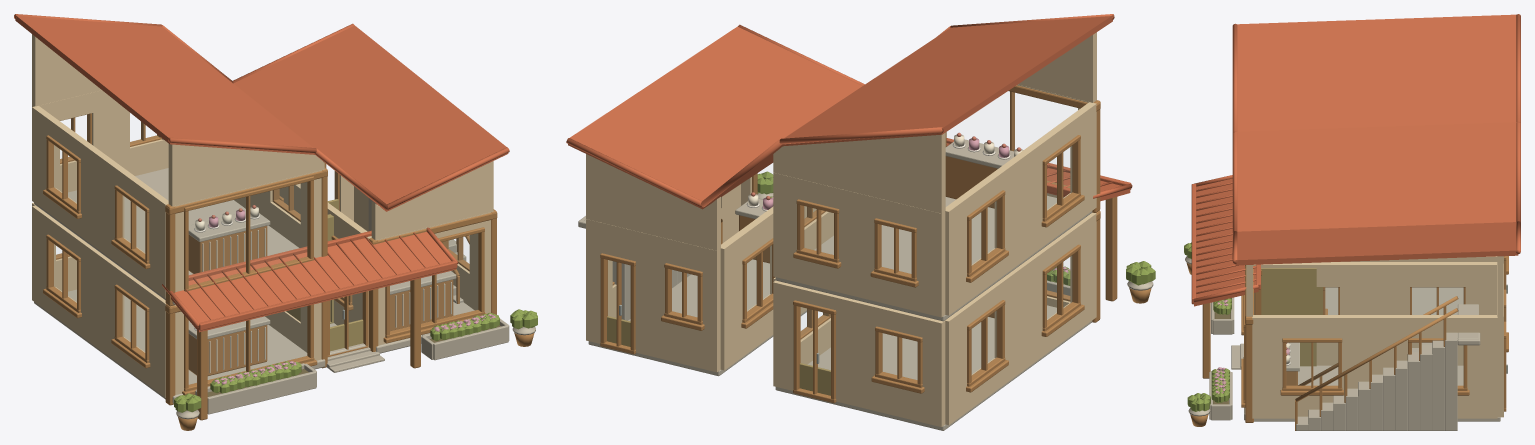
The picture shows the model from 3 angles, left to right: view 1: azimuth 30°, elevation 25°; view 2: azimuth 150°, elevation 25°; view 3: azimuth 270°, elevation 25°; orthographic projection. The views are drawn at different scales.
Visible parts, largest first — view 1: SM_11_02_曲面屋顶, SM_11_01_建筑墙体, SM_11_04_门窗楼梯, SM_11_06_景观设施, SM_11_05_景观植物, SM_11_03_木构回廊; view 2: SM_11_01_建筑墙体, SM_11_02_曲面屋顶, SM_11_04_门窗楼梯, SM_11_06_景观设施, SM_11_03_木构回廊, SM_11_05_景观植物; view 3: SM_11_02_曲面屋顶, SM_11_01_建筑墙体, SM_11_04_门窗楼梯, SM_11_05_景观植物, SM_11_03_木构回廊, SM_11_06_景观设施.
Part boxes in pixels (x1,y1,x2,y2): SM_11_02_曲面屋顶: (14, 14, 509, 332); SM_11_01_建筑墙体: (32, 34, 493, 403); SM_11_04_门窗楼梯: (43, 113, 486, 395); SM_11_06_景观设施: (188, 205, 456, 375); SM_11_05_景观植物: (174, 309, 537, 430); SM_11_03_木构回廊: (165, 167, 497, 420); SM_11_01_建筑墙体: (586, 32, 1096, 430); SM_11_02_曲面屋顶: (566, 14, 1132, 209); SM_11_04_门窗楼梯: (578, 91, 1084, 403); SM_11_06_景观设施: (735, 132, 1023, 318); SM_11_03_木构回廊: (1008, 85, 1117, 322); SM_11_05_景观植物: (757, 171, 1155, 303); SM_11_02_曲面屋顶: (1191, 14, 1520, 306); SM_11_01_建筑墙体: (1244, 256, 1503, 421); SM_11_04_门窗楼梯: (1231, 256, 1508, 430); SM_11_05_景观植物: (1184, 242, 1234, 426); SM_11_03_木构回廊: (1202, 265, 1262, 422); SM_11_06_景观设施: (1286, 342, 1299, 385).
Bounding box in the file's own units: 10.81 × 8.03 × 9.4.
